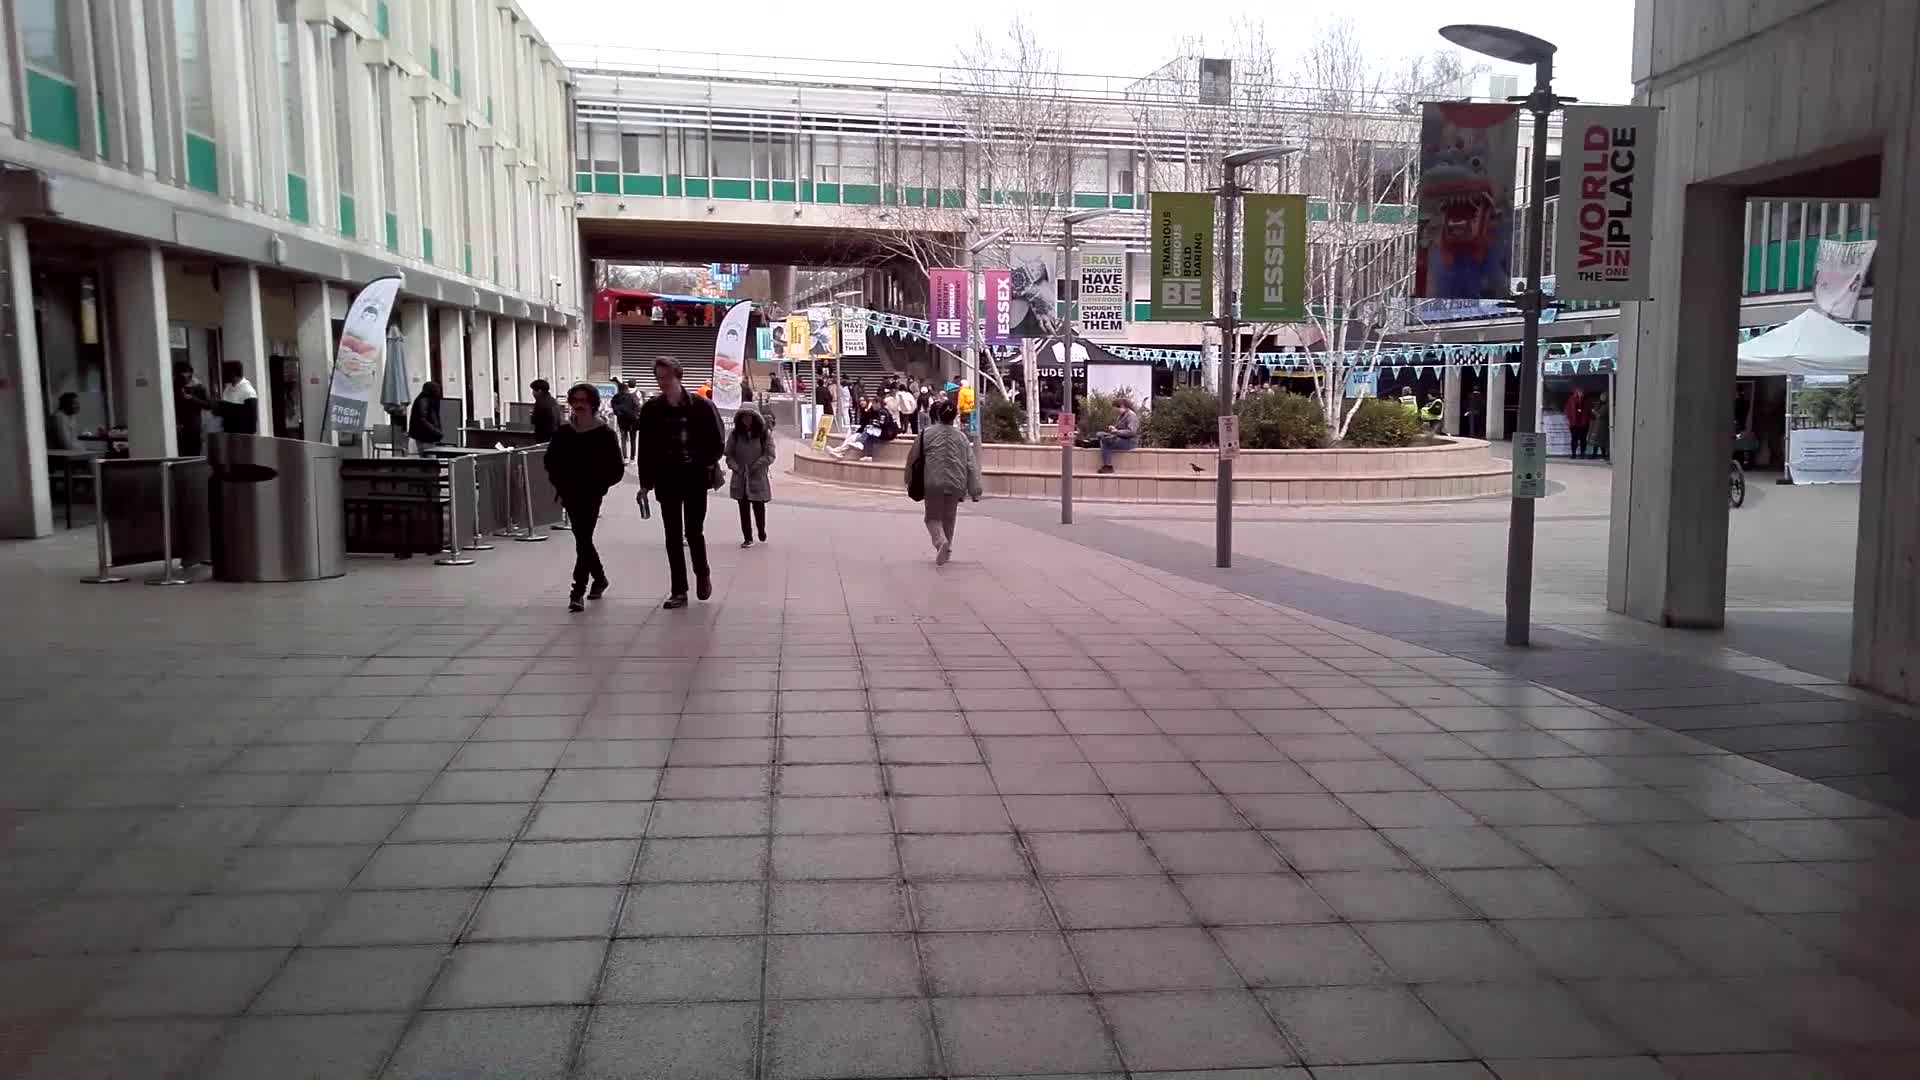Backpack: (902, 451, 928, 503)
Bin: (210, 434, 352, 587)
Person: (645, 351, 724, 598), (556, 379, 617, 611), (922, 398, 977, 571), (726, 398, 776, 547), (1086, 395, 1148, 473), (209, 359, 266, 435), (414, 377, 442, 450)
